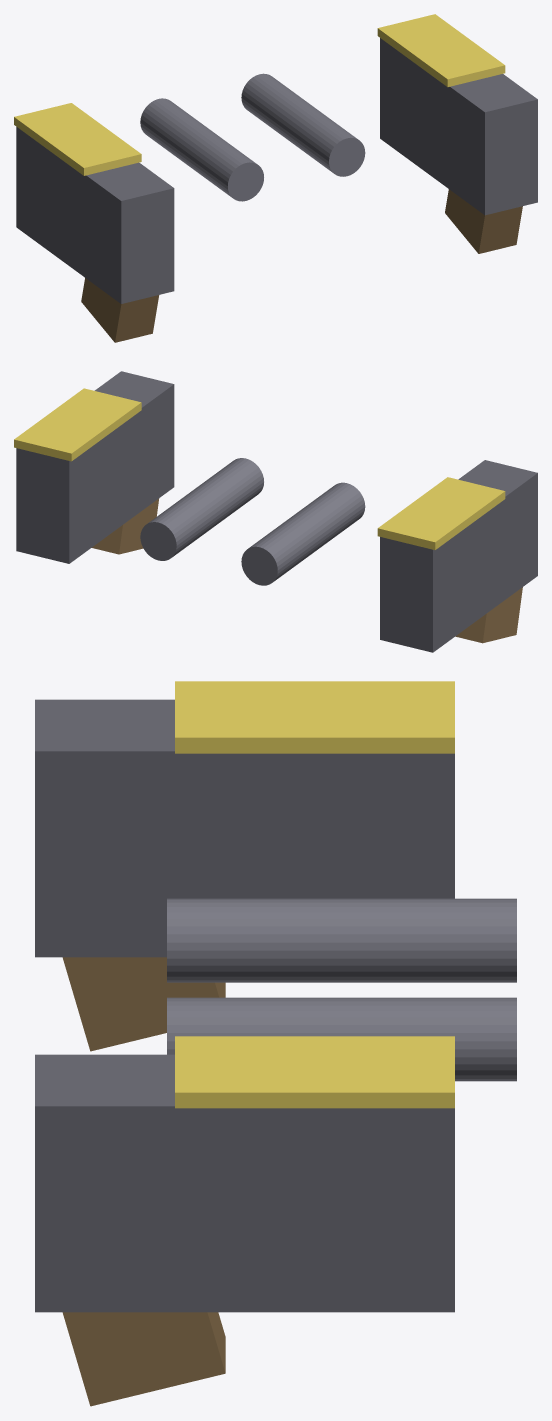
The model's file is dual_pistol.glb.
The picture shows the model from 3 angles, top to bottom: view 1: azimuth 30°, elevation 25°; view 2: azimuth 150°, elevation 25°; view 3: azimuth 270°, elevation 25°; orthographic projection. The views are drawn at different scales.
Visible parts, largest first — view 1: Cube, Cube.003, Cylinder, Cylinder.001, Cube.005, Cube.002, Cube.001, Cube.004; view 2: Cube.003, Cube, Cylinder, Cylinder.001, Cube.002, Cube.005, Cube.001, Cube.004; view 3: Cube.003, Cube, Cylinder, Cube.002, Cube.005, Cylinder.001, Cube.004, Cube.001.
Part boxes in pixels (box(x1,y1,x2,y2)): Cube: box(16, 127, 174, 303); Cube.003: box(380, 38, 537, 215); Cylinder: box(140, 98, 263, 201); Cylinder.001: box(241, 73, 365, 176); Cube.005: box(377, 14, 505, 86); Cube.002: box(14, 103, 141, 175); Cube.001: box(81, 278, 159, 342); Cube.004: box(445, 189, 522, 253); Cube.003: box(16, 371, 174, 563); Cube: box(380, 460, 537, 652); Cylinder: box(241, 482, 365, 585); Cylinder.001: box(140, 458, 263, 560); Cube.002: box(377, 477, 505, 549); Cube.005: box(14, 388, 141, 461); Cube.001: box(455, 587, 522, 643); Cube.004: box(91, 498, 159, 554); Cube.003: box(35, 1054, 454, 1312); Cube: box(35, 699, 454, 957); Cylinder: box(167, 898, 516, 982); Cube.002: box(175, 681, 454, 753); Cube.005: box(175, 1036, 454, 1108); Cylinder.001: box(167, 997, 516, 1081); Cube.004: box(62, 1312, 225, 1406); Cube.001: box(62, 957, 225, 1051).
Bounding box in the file's own units: 1 × 0.3669 × 0.4957.
